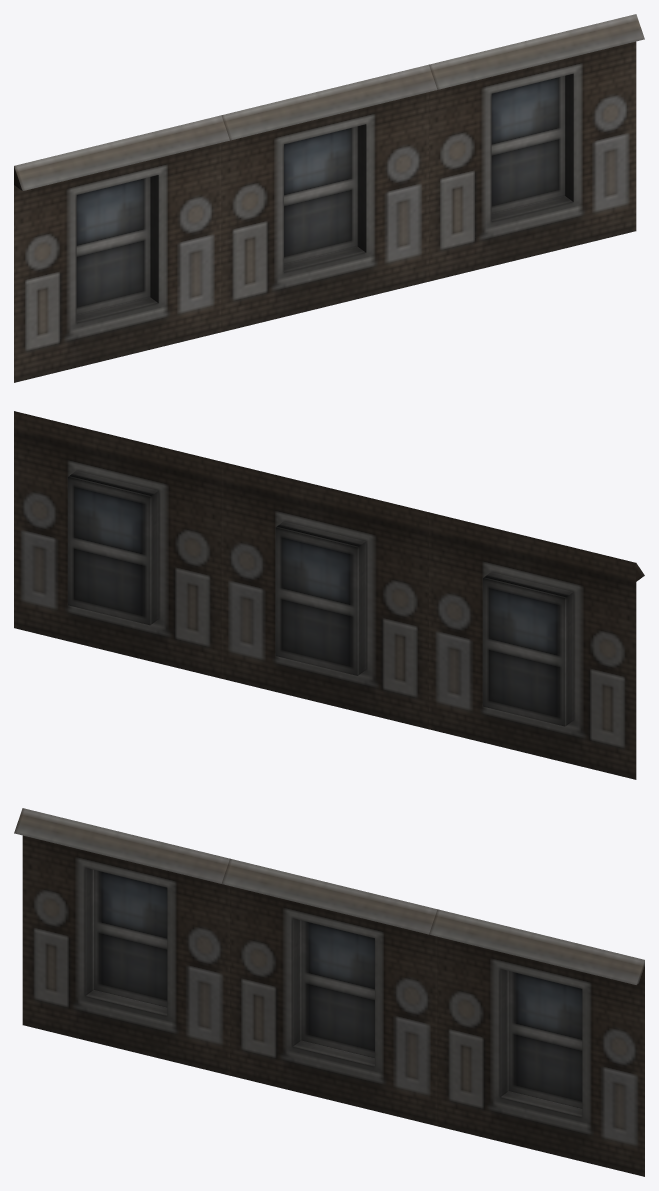
Rendered from B3_LowResMiddleFloor.FBX.
3 views of the same model, one above another, from view 1: azimuth 30°, elevation 25°; view 2: azimuth 150°, elevation 25°; view 3: azimuth 330°, elevation 25° (orthographic).
Parts seen in each view (by area): view 1: B3_LowResMiddleFloor; view 2: B3_LowResMiddleFloor; view 3: B3_LowResMiddleFloor.
Boxes of the visible parts, x1=… form: B3_LowResMiddleFloor: x1=14, y1=14, x2=644, y2=382; B3_LowResMiddleFloor: x1=14, y1=411, x2=644, y2=779; B3_LowResMiddleFloor: x1=14, y1=808, x2=644, y2=1176.
Size of the model in its own units: 12 by 4 by 0.5731.
